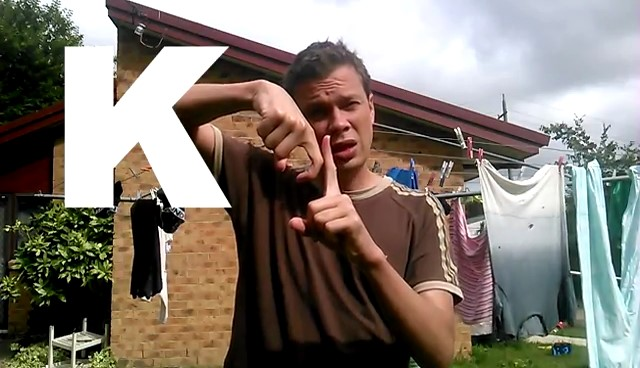K: (252, 78, 377, 266)
